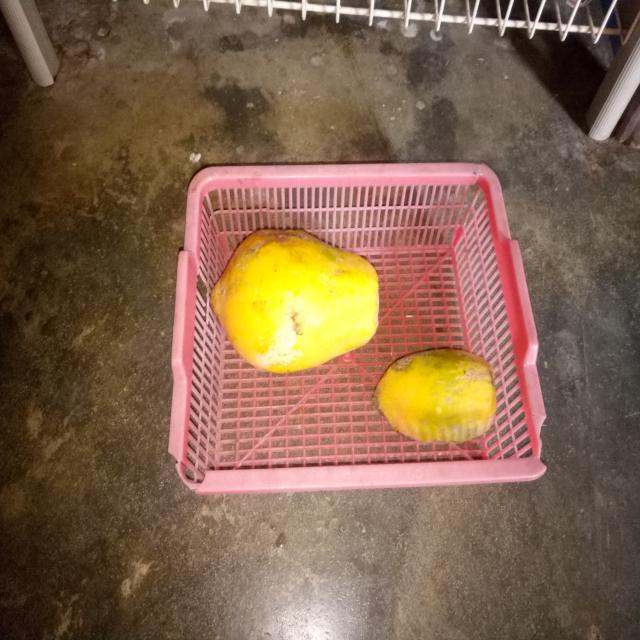Pepaya rippen: (210, 219, 385, 383), (369, 348, 505, 434)
